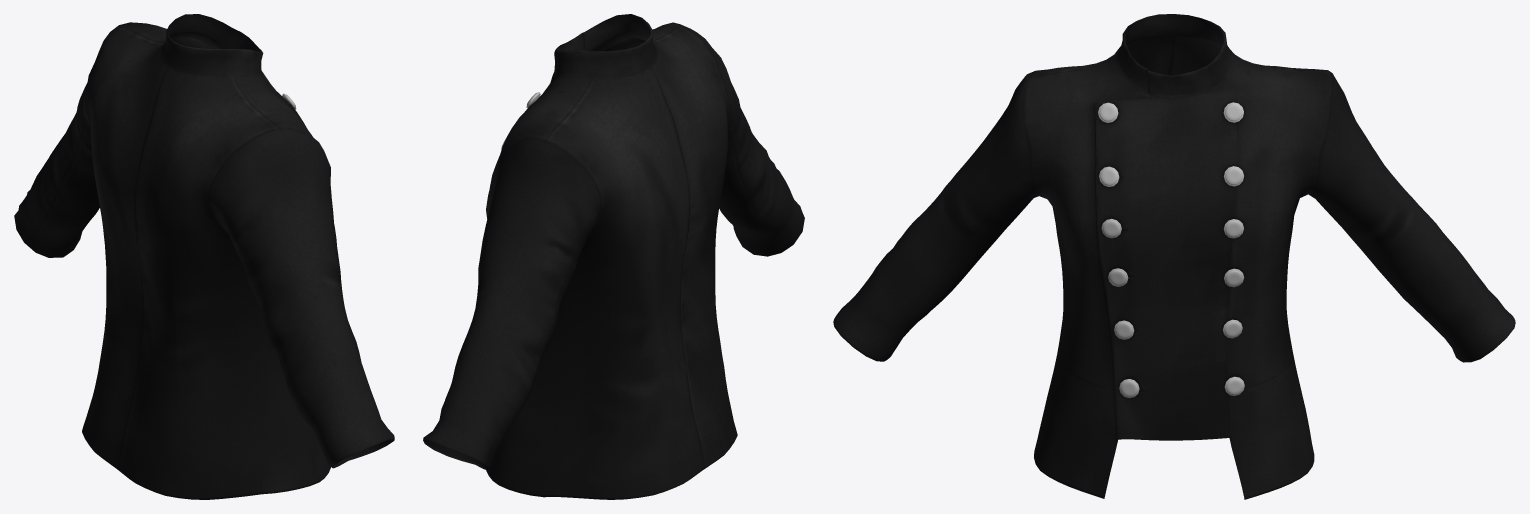
The model's file is 2 mens-double-breasted-uniform-jacket.glb.
3 renders of one model, left to right at view 1: azimuth 30°, elevation 25°; view 2: azimuth 150°, elevation 25°; view 3: azimuth 270°, elevation 25°, orthographic.
Visible parts, largest first — view 1: Jacket; view 2: Jacket; view 3: Jacket.
Boxes of the visible parts, x1,y1,x2,y2 form: Jacket: (14,14,394,499); Jacket: (423,14,804,499); Jacket: (833,14,1515,499).
Bounding box in the file's own units: 0.3223 × 0.6871 × 0.9962.
Materials: 2 (1 with a texture image).
